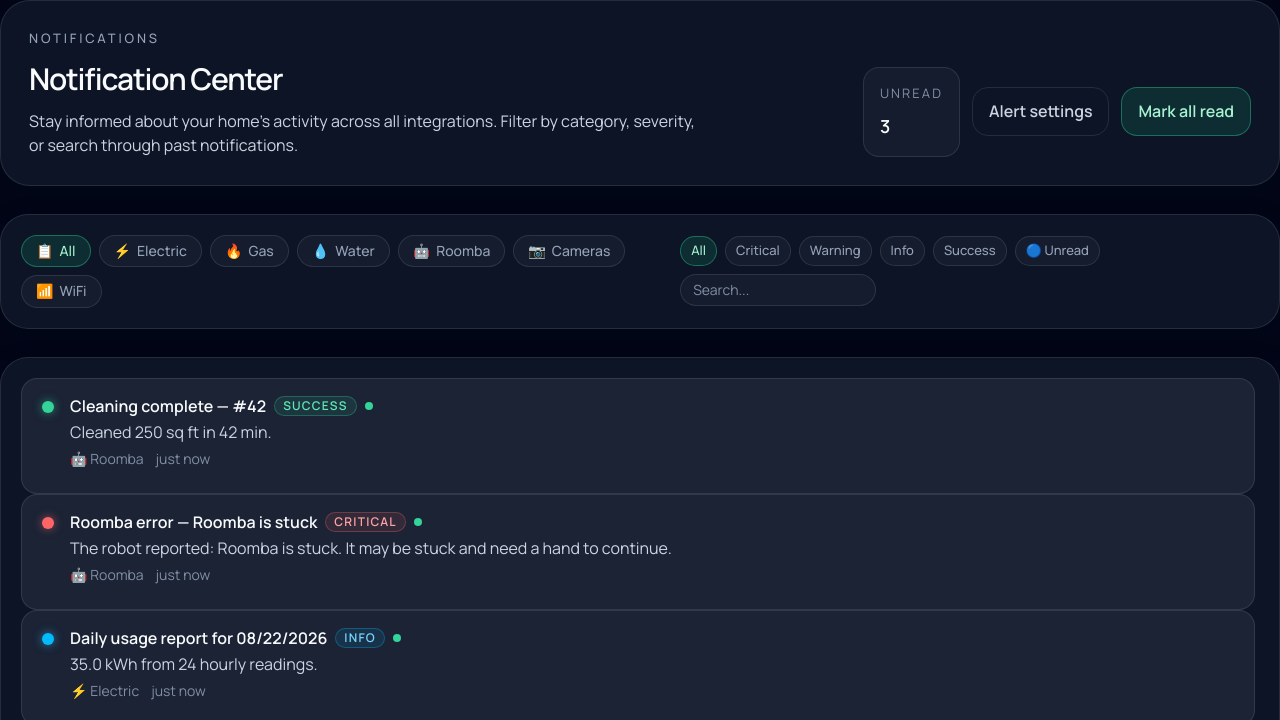
Notifications page — Roomba › filters to only Roomba notifications when the Roomba category pill is clicked
The width and height of the screenshot is (1280, 720).
Check: the text "Daily usage report for 08/22/2026" is shown, box x1=70 y1=627 x2=327 y2=650
Click the Roomba category filter pill.
Click the button "🤖 Roomba" at (452, 251), box x1=398 y1=234 x2=505 y2=267
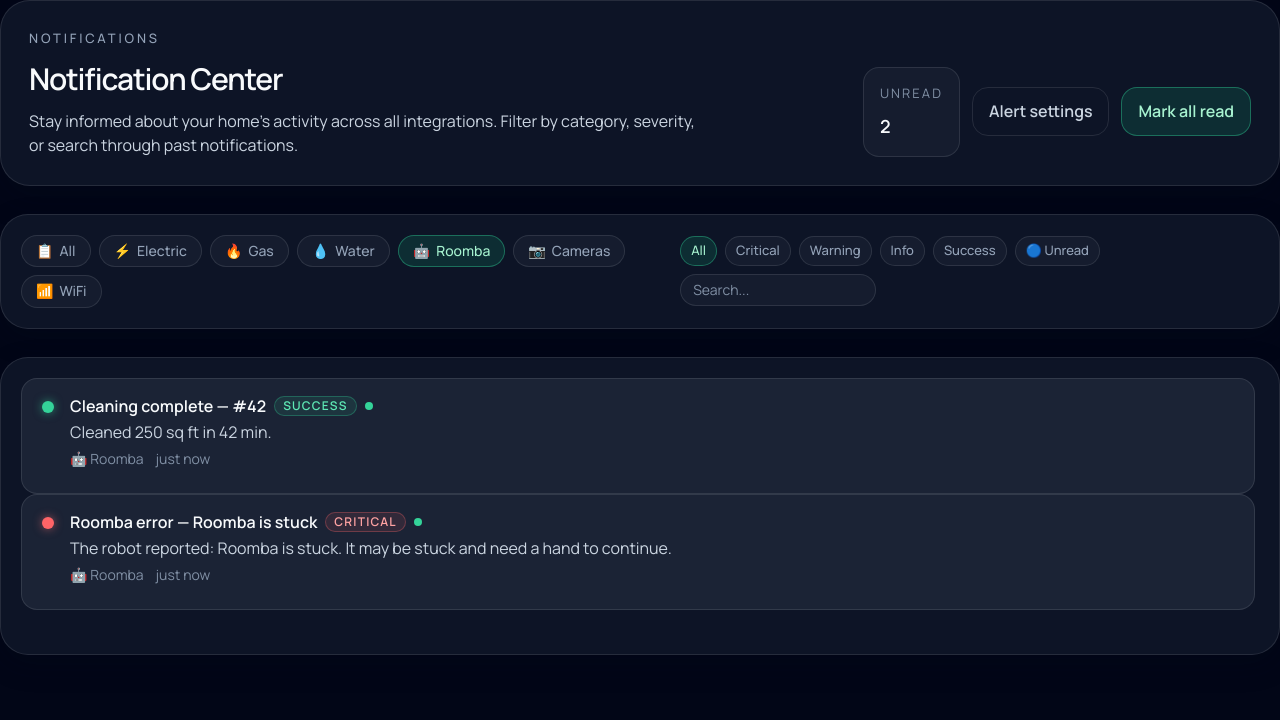
Check: the text "Cleaning complete — #42" is shown, box x1=70 y1=395 x2=266 y2=418
Check: the text "Daily usage report for 08/22/2026" is gone
